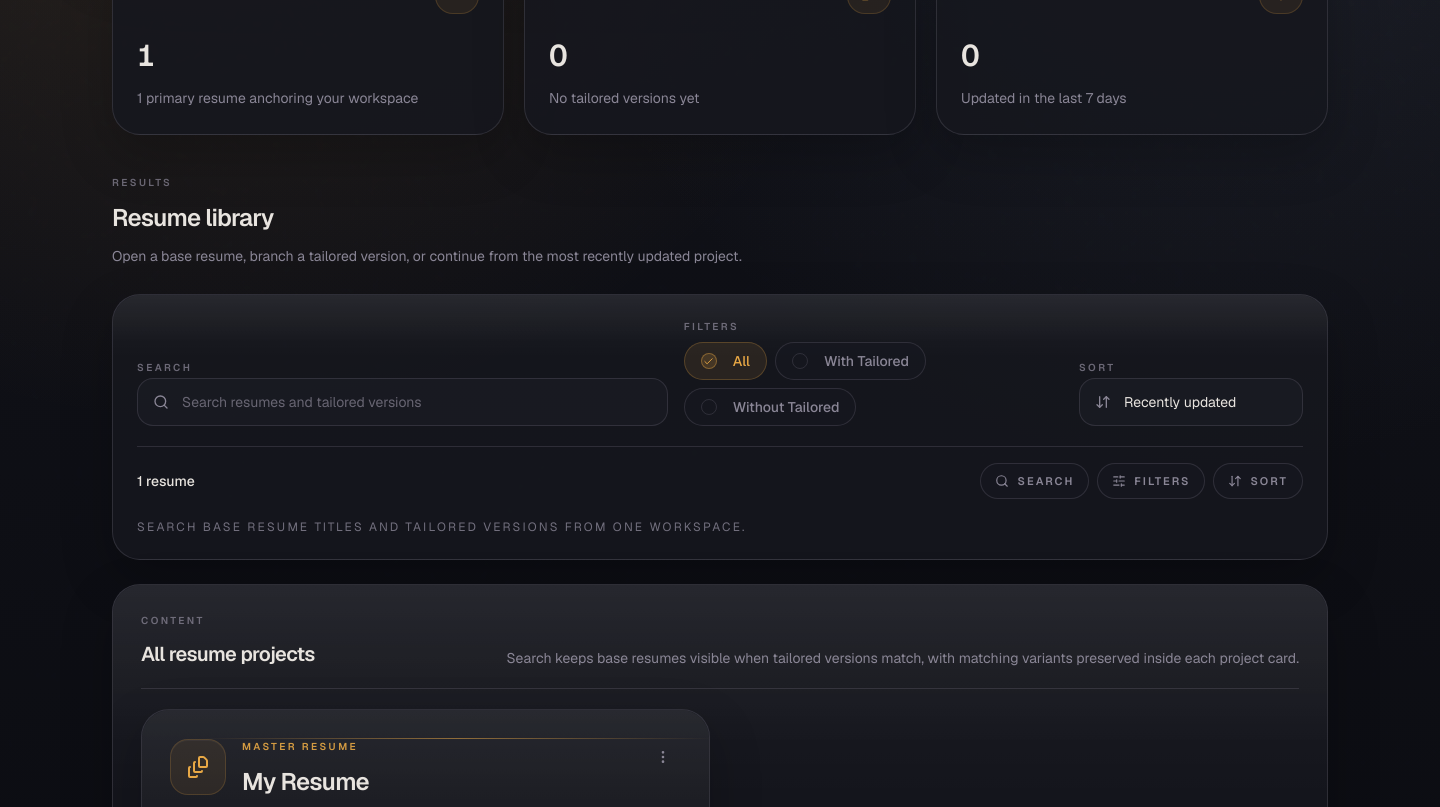
Test: DashboardPageClient › reset controls (Clear filters button) › shows Clear filters button only when controls are active
(page scrolled)
Expected: the button "Clear filters" is not shown
In the search field labelled "Search": (402, 402) x1=137 y1=378 x2=668 y2=426, type "My"
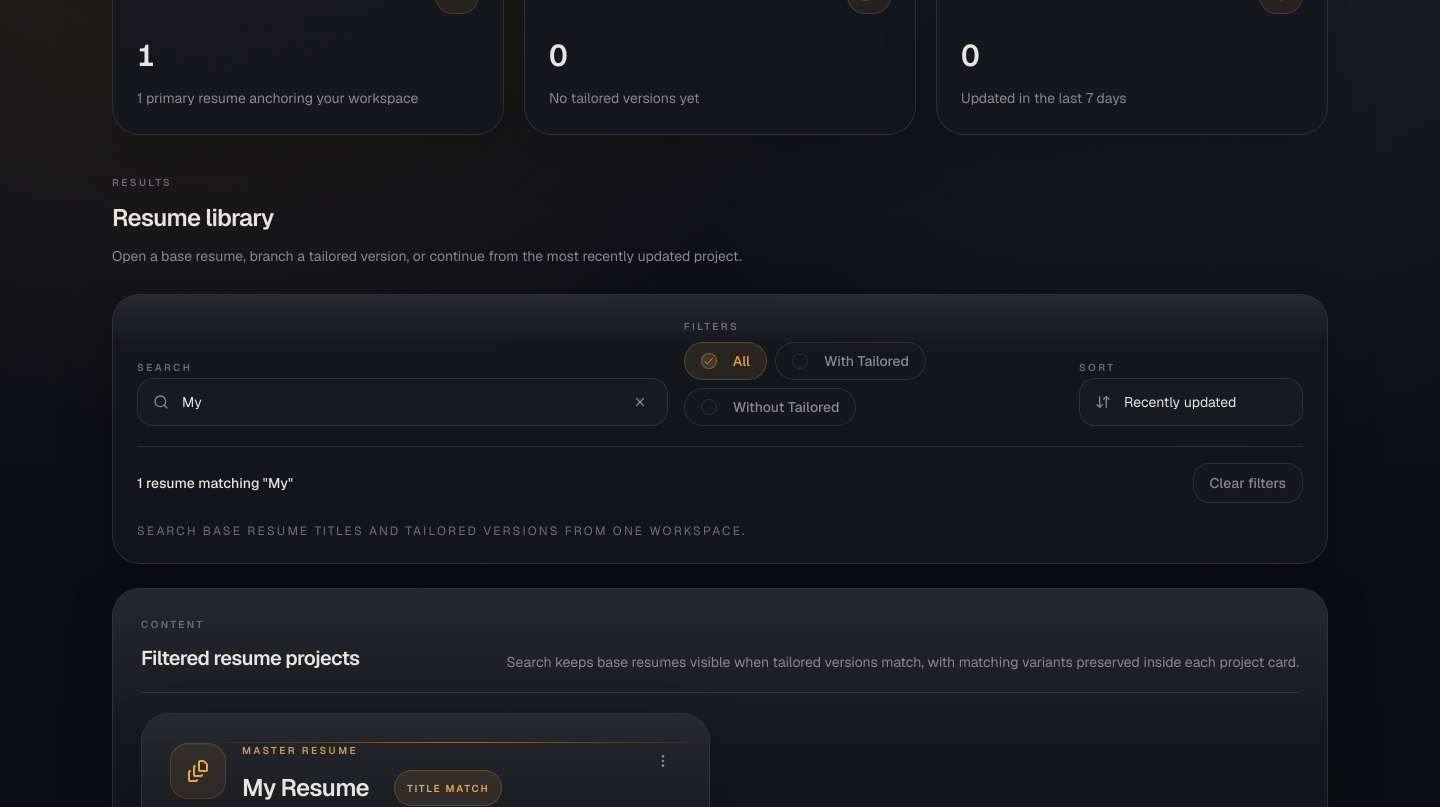
Now the button "Clear filters" is shown, box x1=1192 y1=463 x2=1303 y2=503
